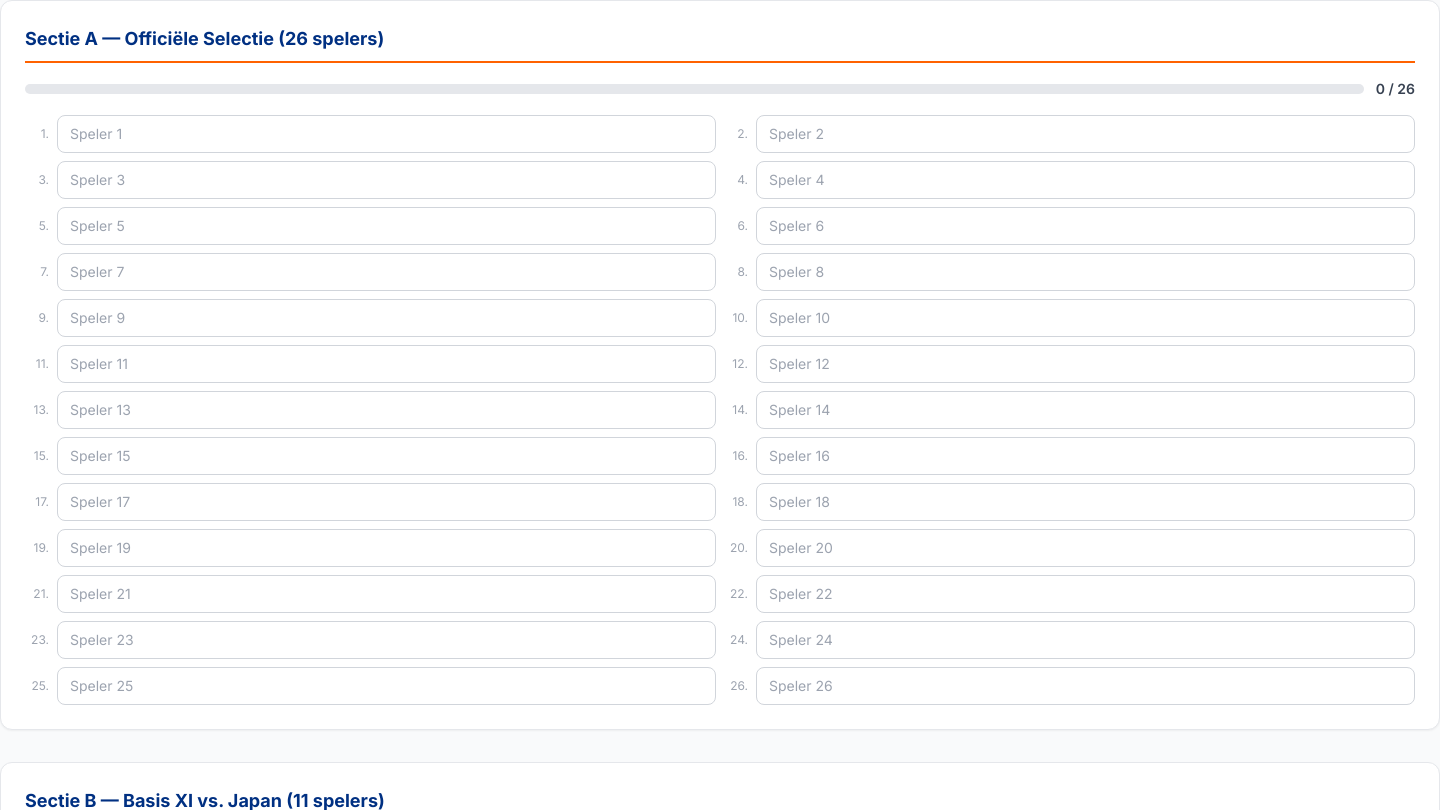
Test: PredictieForm › progress bars update as inputs filled
The width and height of the screenshot is (1440, 810).
Expected: the text "0 / 26" is shown, [1376,79,1415,99]
In the field with placeholder "Speler 1": [386, 134] box [57,115,716,153], type "Van Dijk"
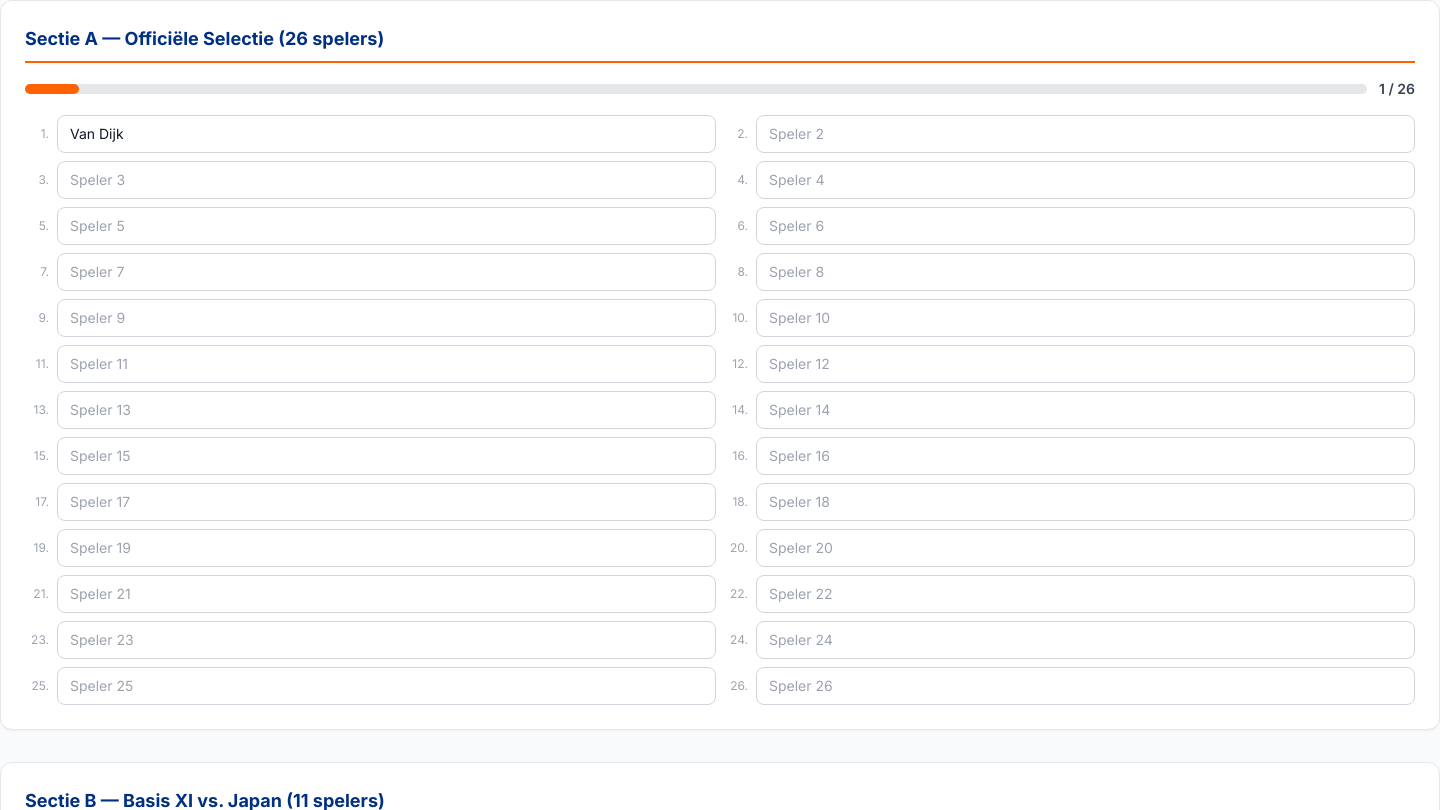
Result: the text "1 / 26" is shown at [1379,79,1415,99]
